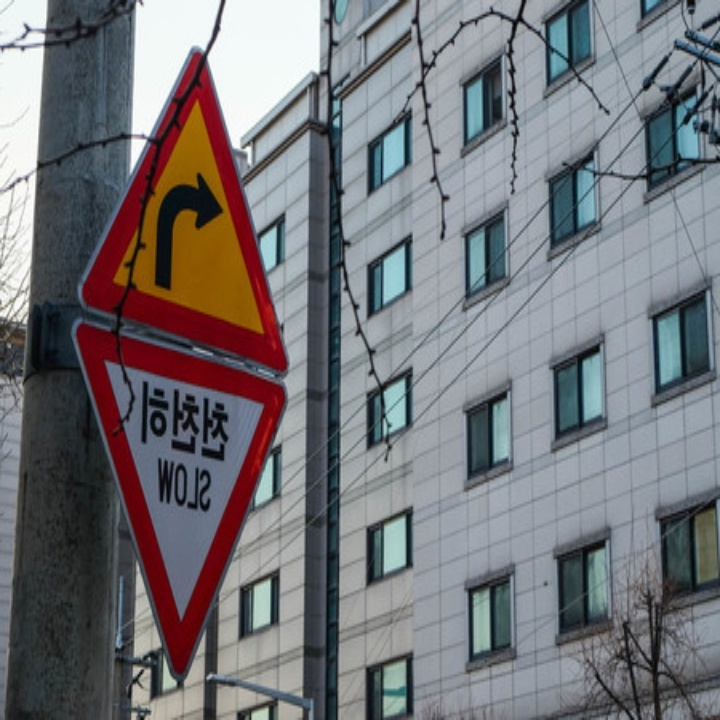right: (147, 164, 230, 296)
